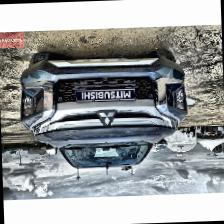NON-EV: (18, 47, 192, 179)
